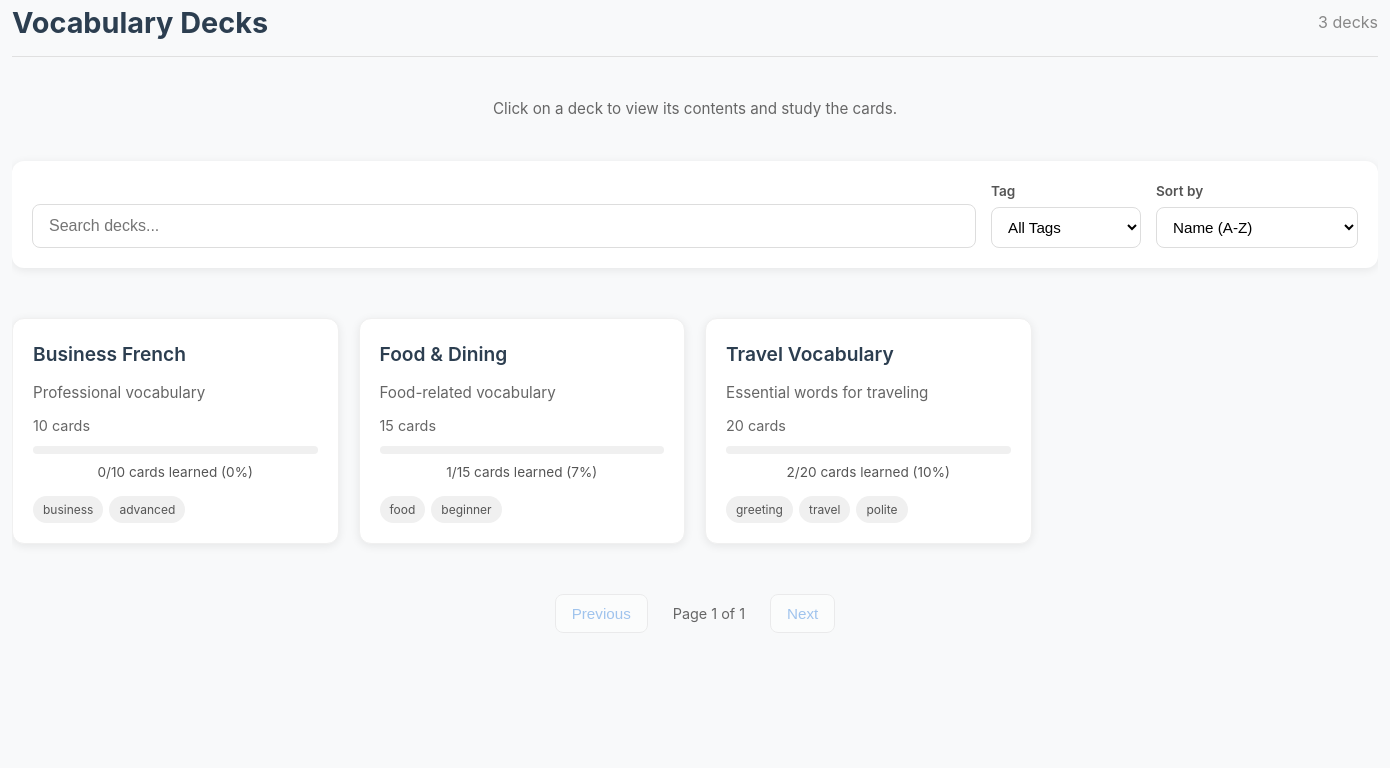
it: DeckBrowser › Search Functionality (AC5) › shows all decks when search query is cleared
Expected: the button with test id "deck-card-1" is shown, [705,318,1032,544]
Search for "Travel"
Type "Travel" into the field with test id "deck-search-input" at x=504, y=226, box [32,204,976,248]
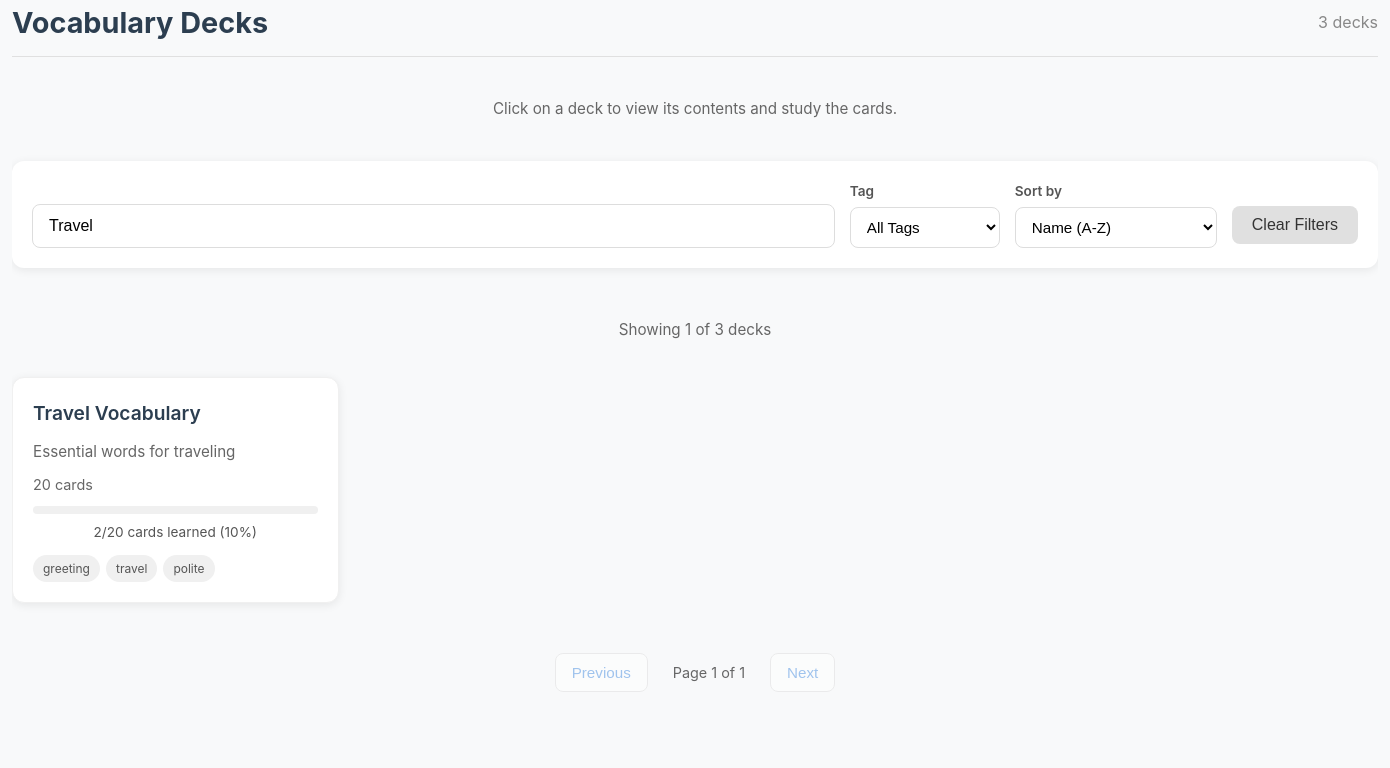
Expected: the button with test id "deck-card-1" is shown, [12,377,338,603]
Result: the button with test id "deck-card-2" is gone
Clear search
Clear the field with test id "deck-search-input" at x=433, y=226, box [32,204,835,248]
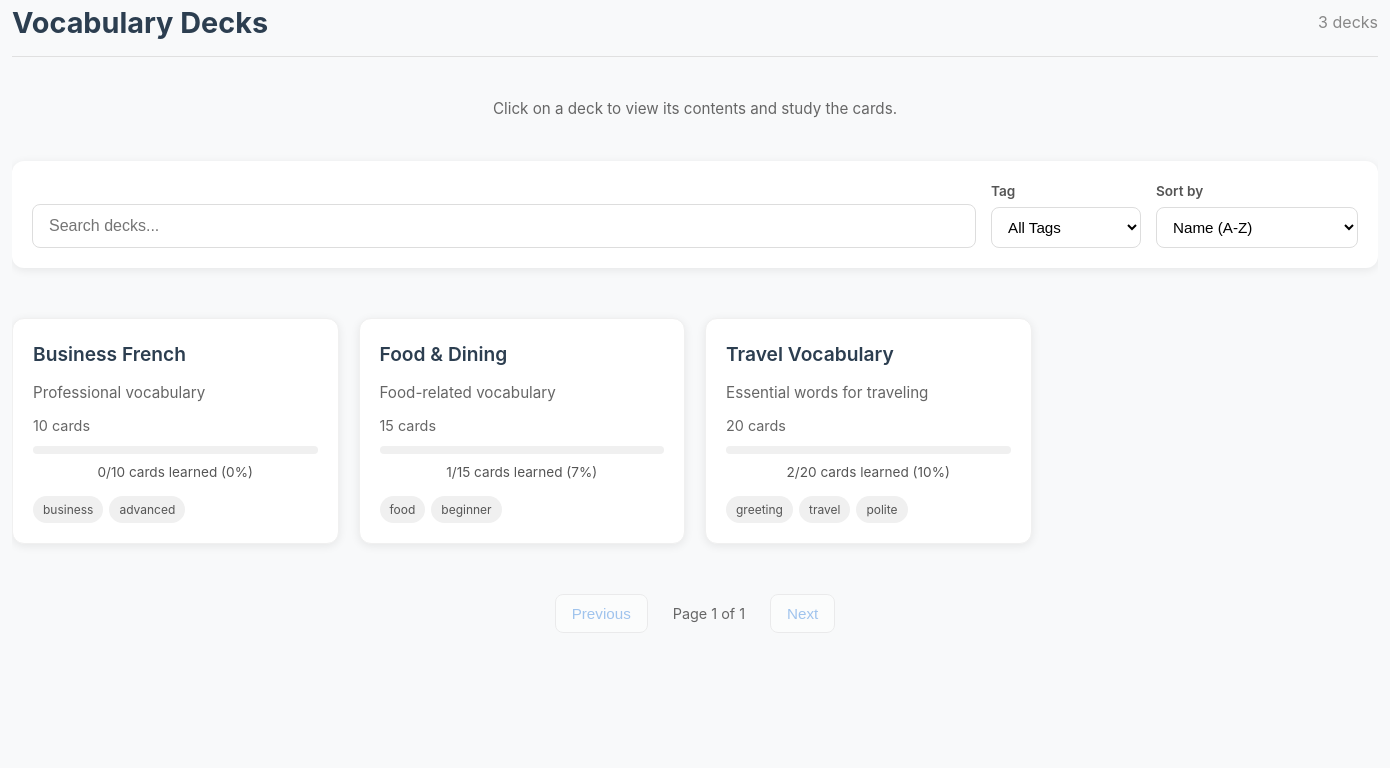
Expected: the button with test id "deck-card-1" is shown, [705,318,1032,544]
Result: the button with test id "deck-card-2" is shown at [358,318,685,544]
Result: the button with test id "deck-card-3" is shown at [12,318,338,544]
